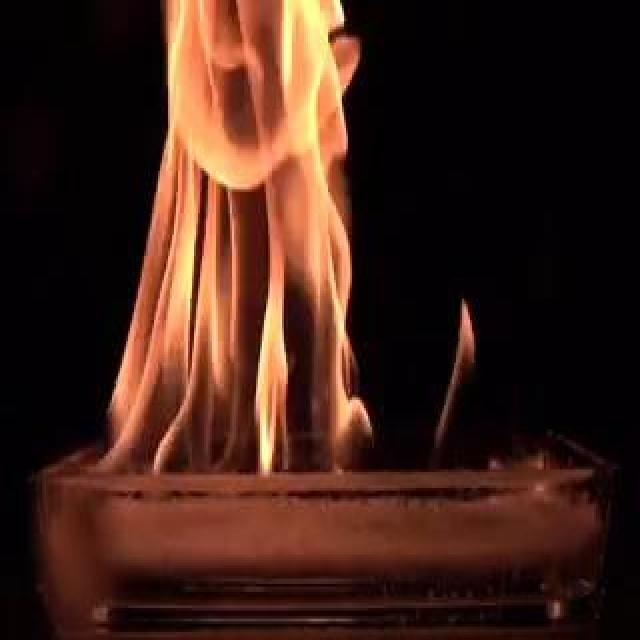Fire: (79, 2, 545, 466)
